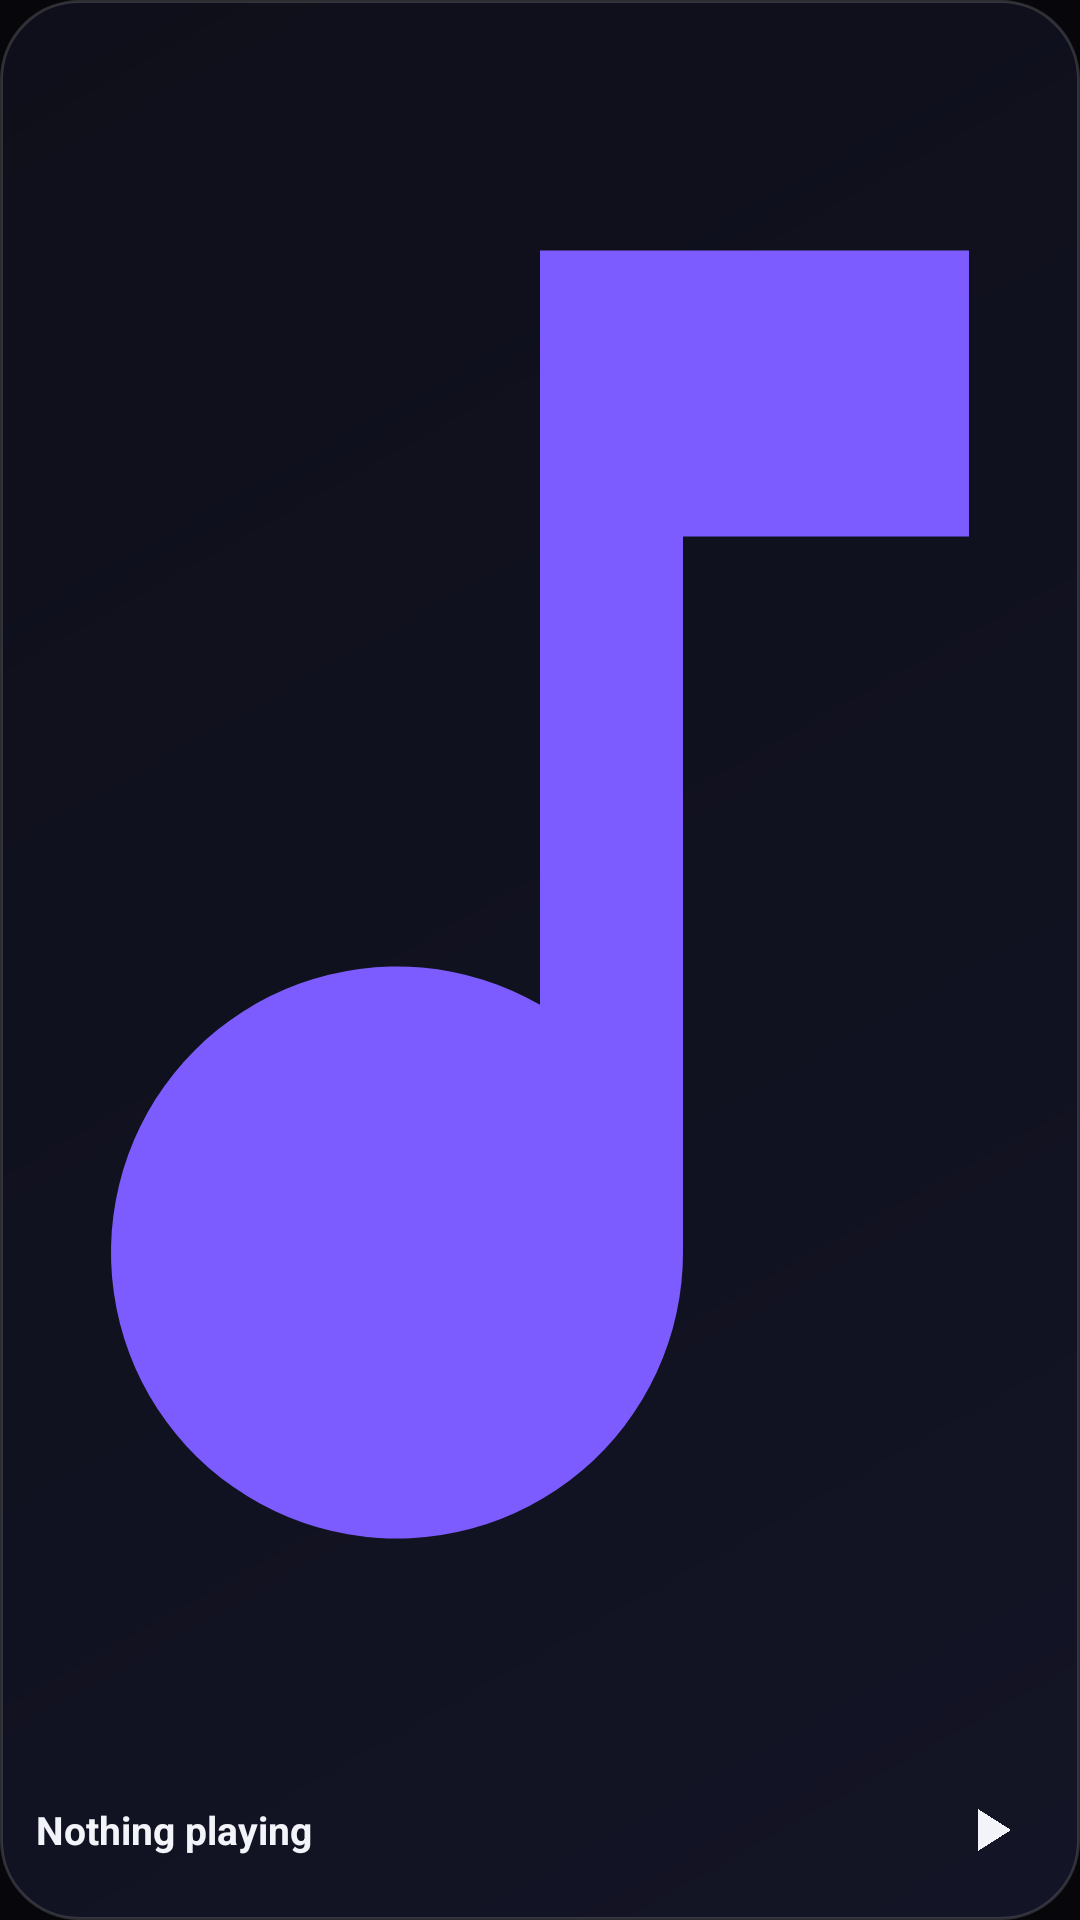

Where icons sit on this 1080w x 1920h app screen, as (x1, y1, x2, y2):
Play or pause: (978, 1809, 1010, 1851)
